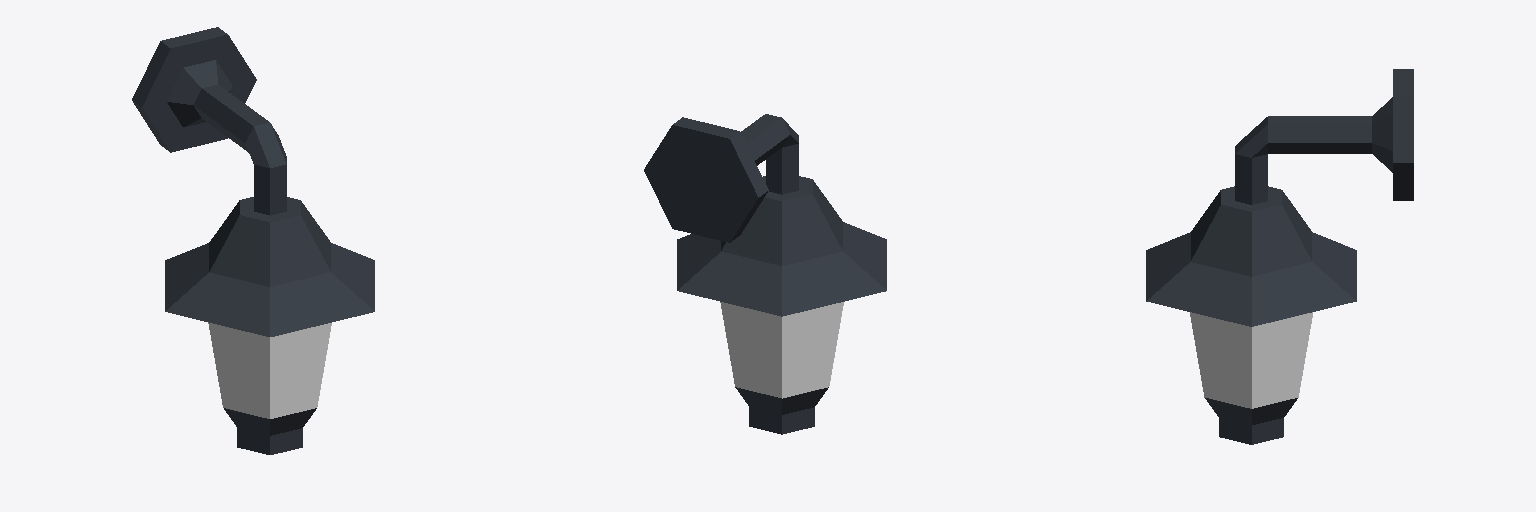
File: lightpostHanging.obj
3 renders of one model, left to right at view 1: azimuth 30°, elevation 25°; view 2: azimuth 150°, elevation 25°; view 3: azimuth 270°, elevation 25°, orthographic.
Parts seen in each view (by area): view 1: lightpostHanging; view 2: lightpostHanging; view 3: lightpostHanging.
Part boxes in pixels (left/top/right/bottom): lightpostHanging: left=132, top=27, right=374, bottom=454; lightpostHanging: left=644, top=114, right=886, bottom=434; lightpostHanging: left=1146, top=69, right=1413, bottom=444.
Size of the model in its own units: 0.2336 by 0.3672 by 0.257.